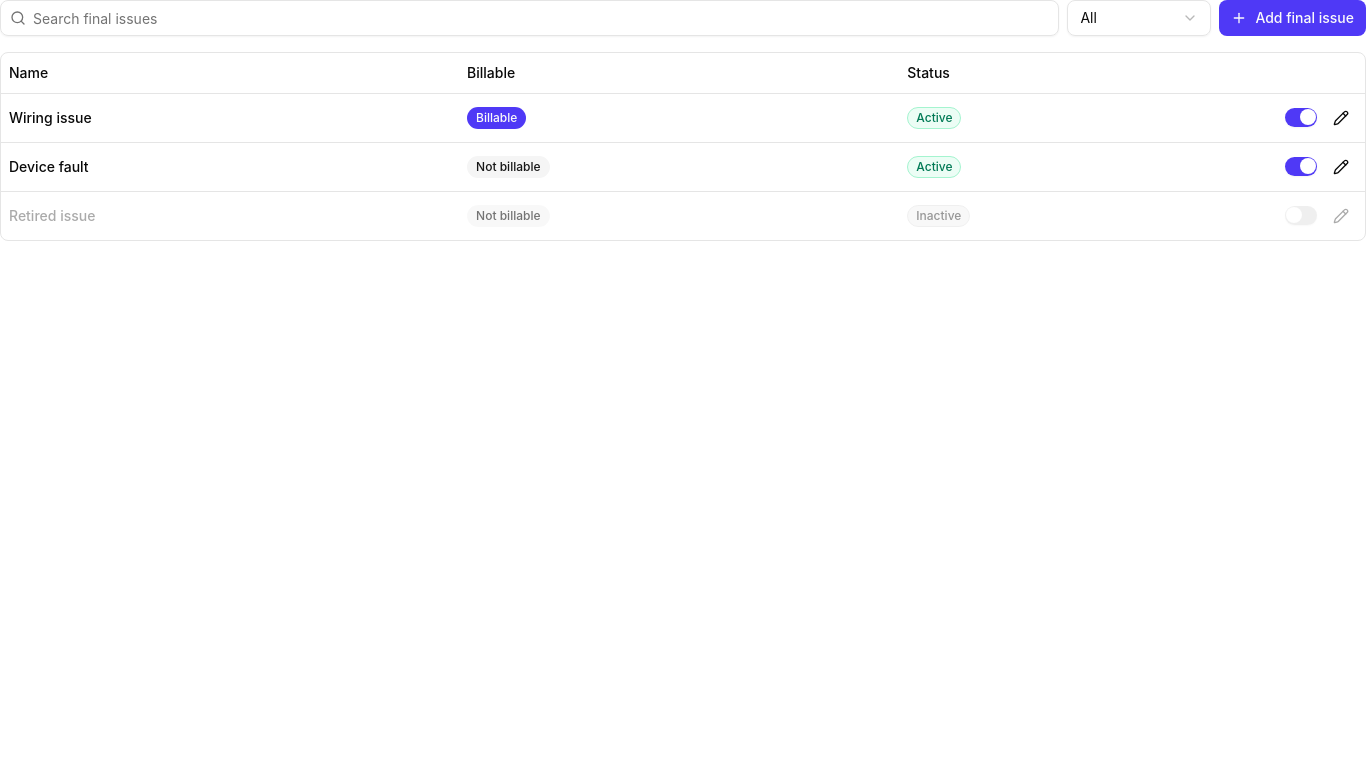
it: MasterTable › adds a final issue with the billable switch
Click the button "Add final issue". click: coordinates (1293, 18)
box: [1219,0,1365,36]
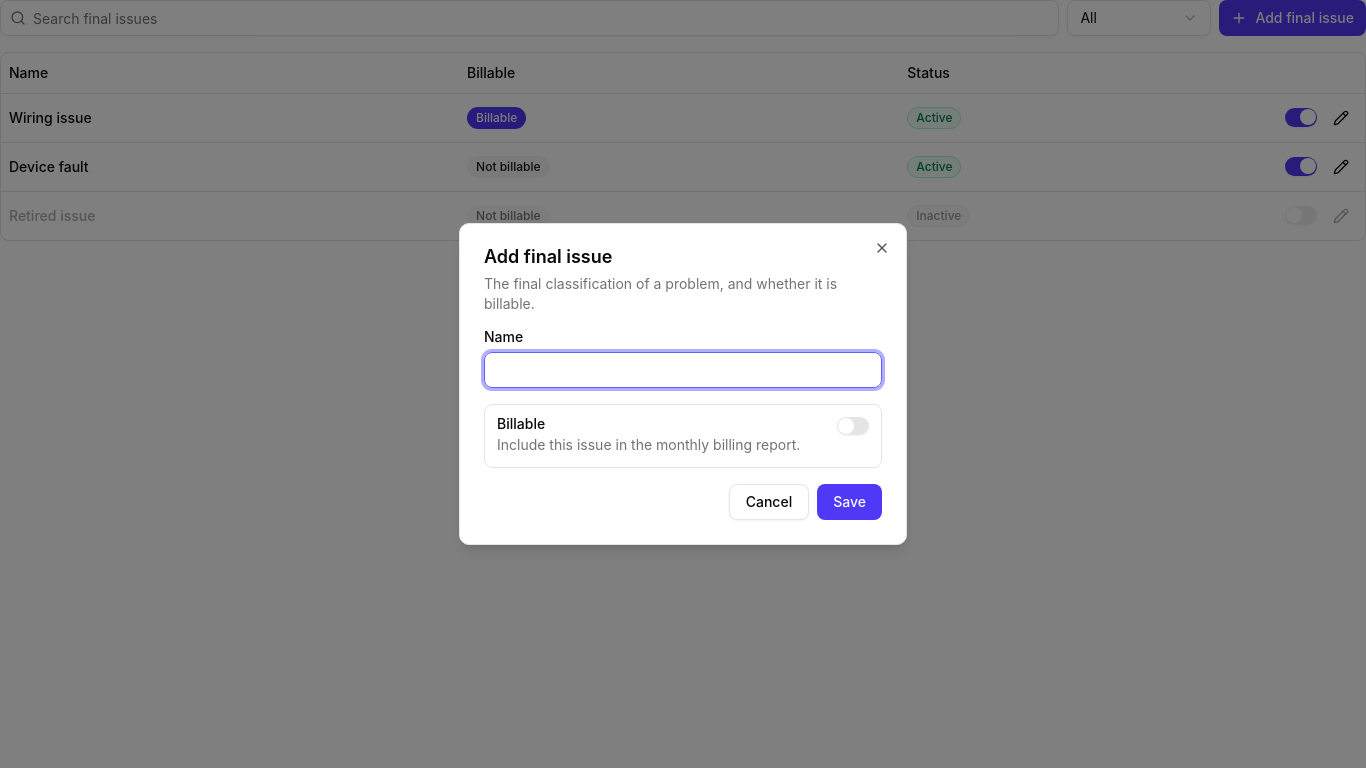
Click the button "Save". click: coordinates (850, 502)
box: [817,484,882,520]
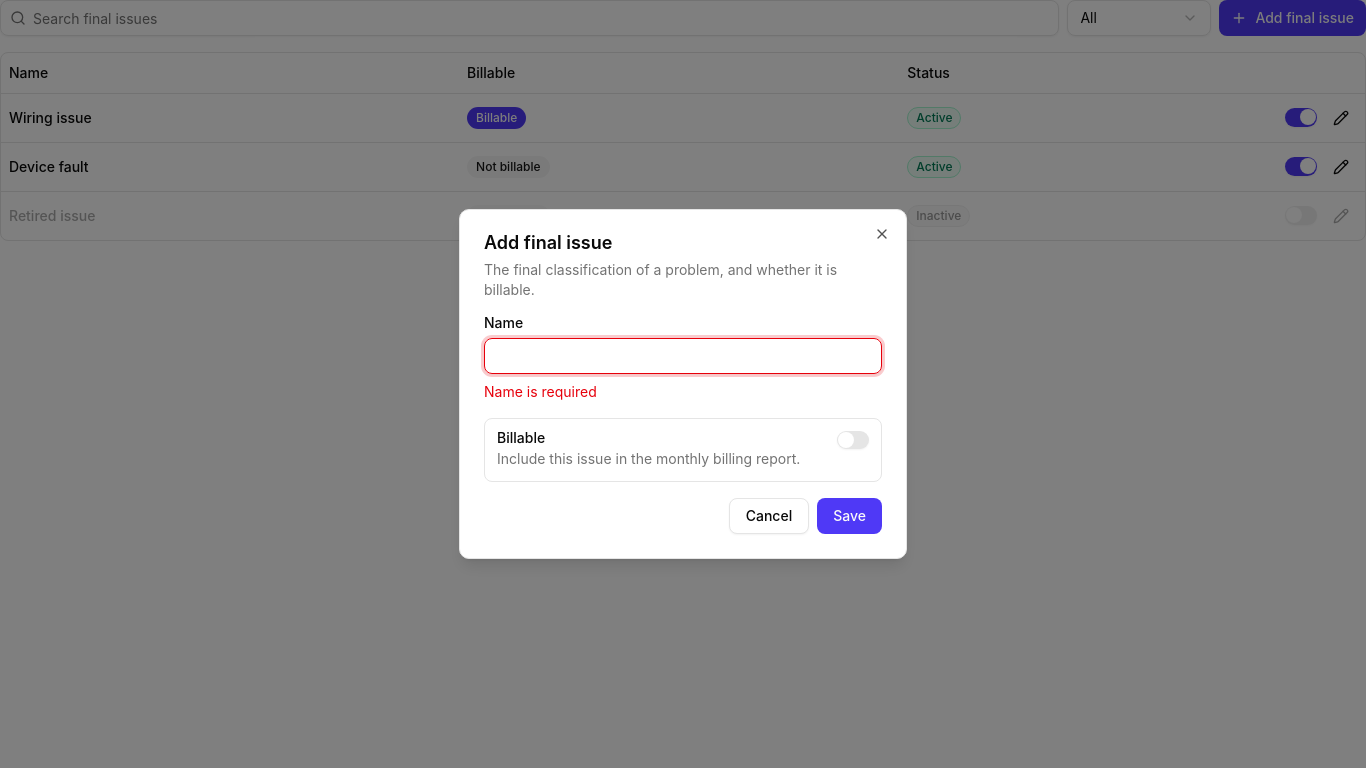
Expected: the text "Name is required" is shown, [484,383,597,400]
Type "Loose connector" into the field labelled "Name". click: coordinates (683, 356)
box: [484,338,882,374]
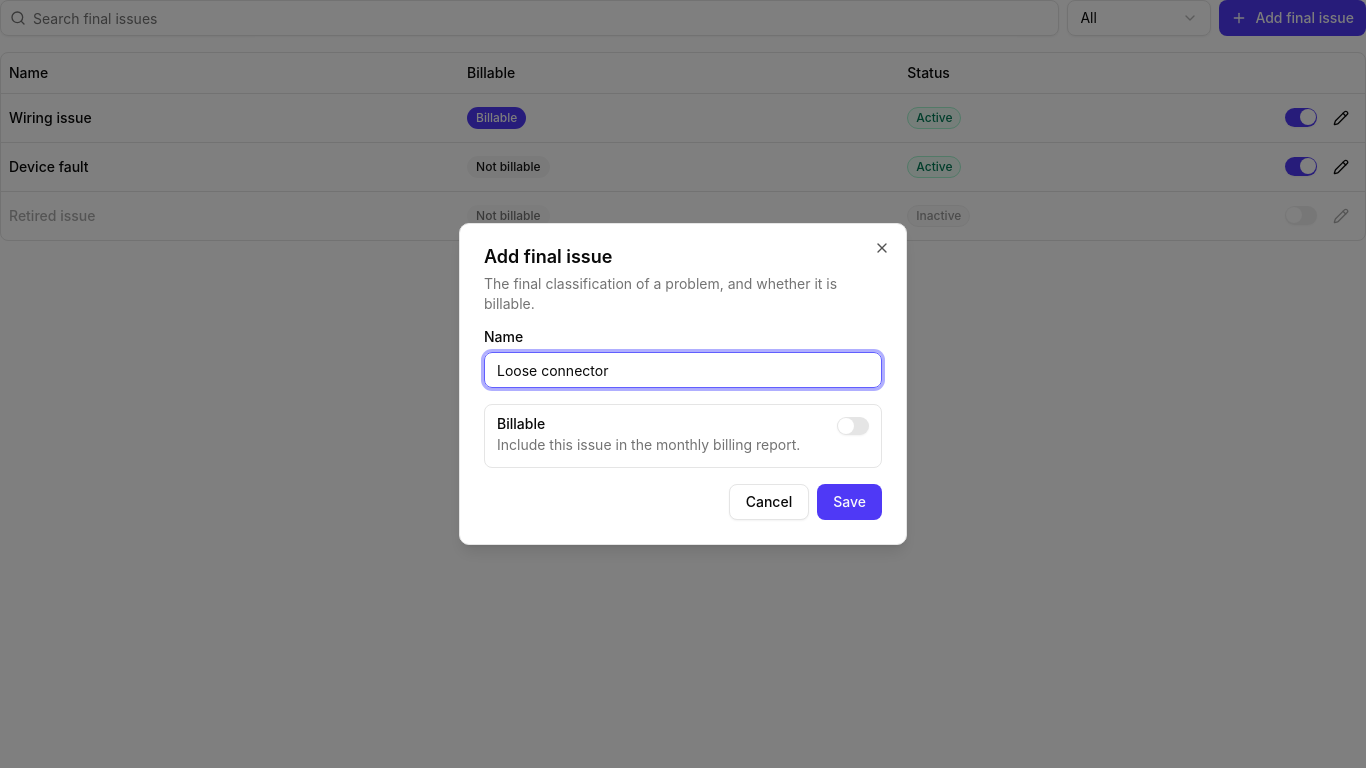
Click the switch named "Billable". click: coordinates (853, 426)
box: [837,417,869,435]
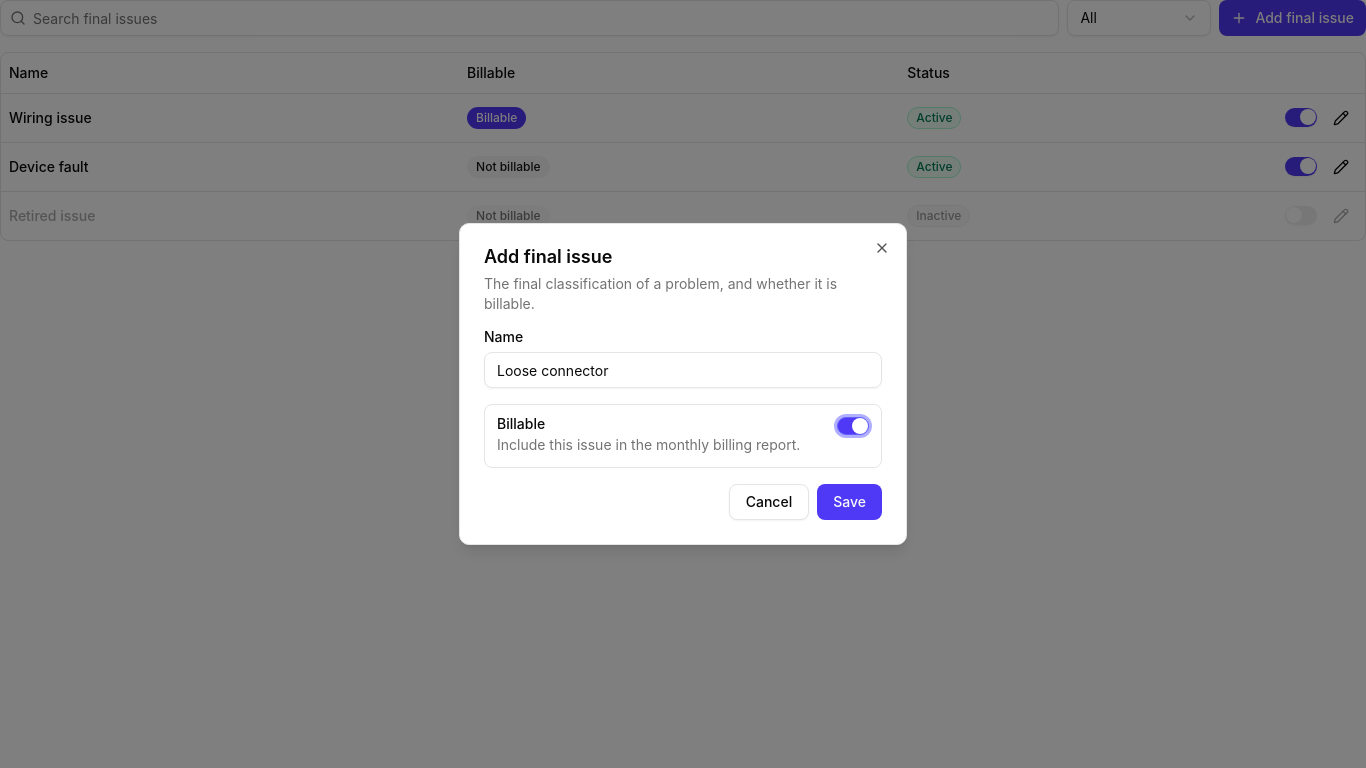
Click the button "Save". click: coordinates (850, 502)
box: [817,484,882,520]
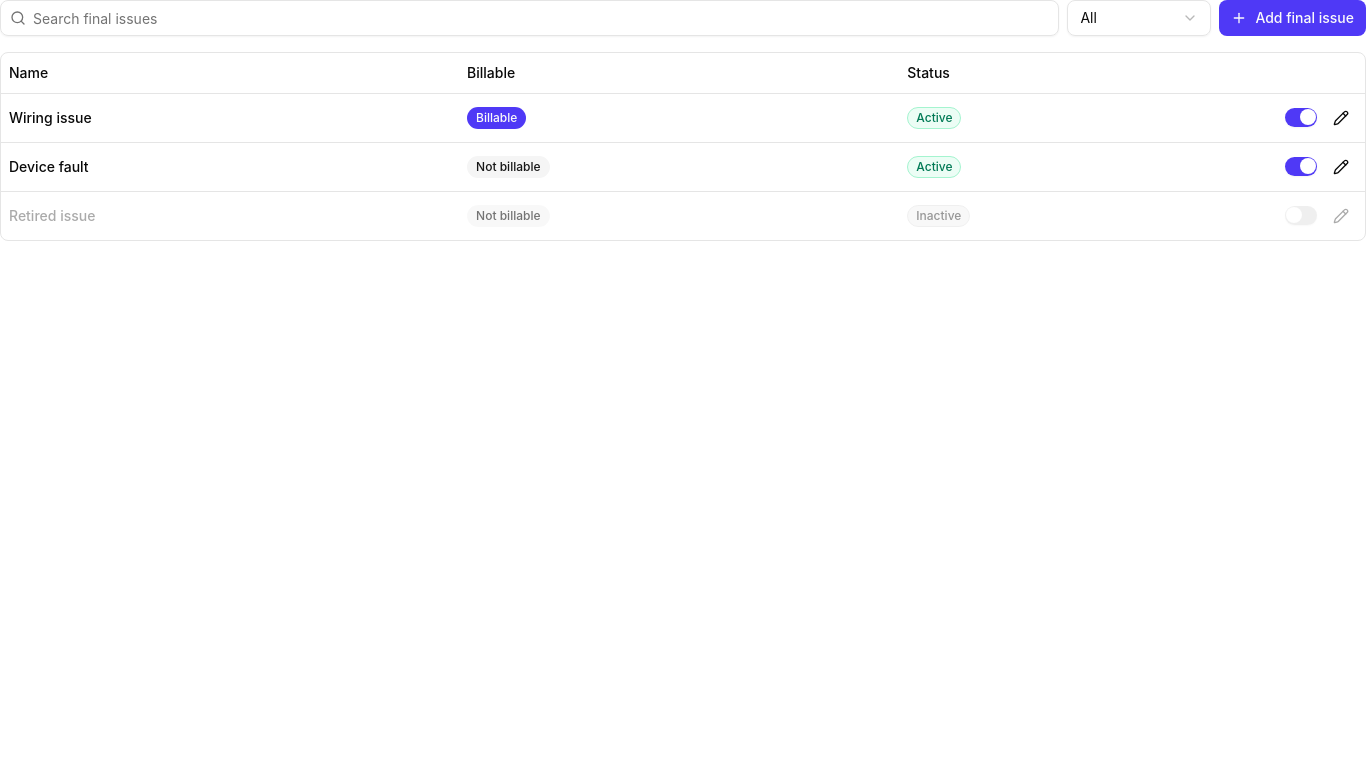
Expected: the dialog is gone
